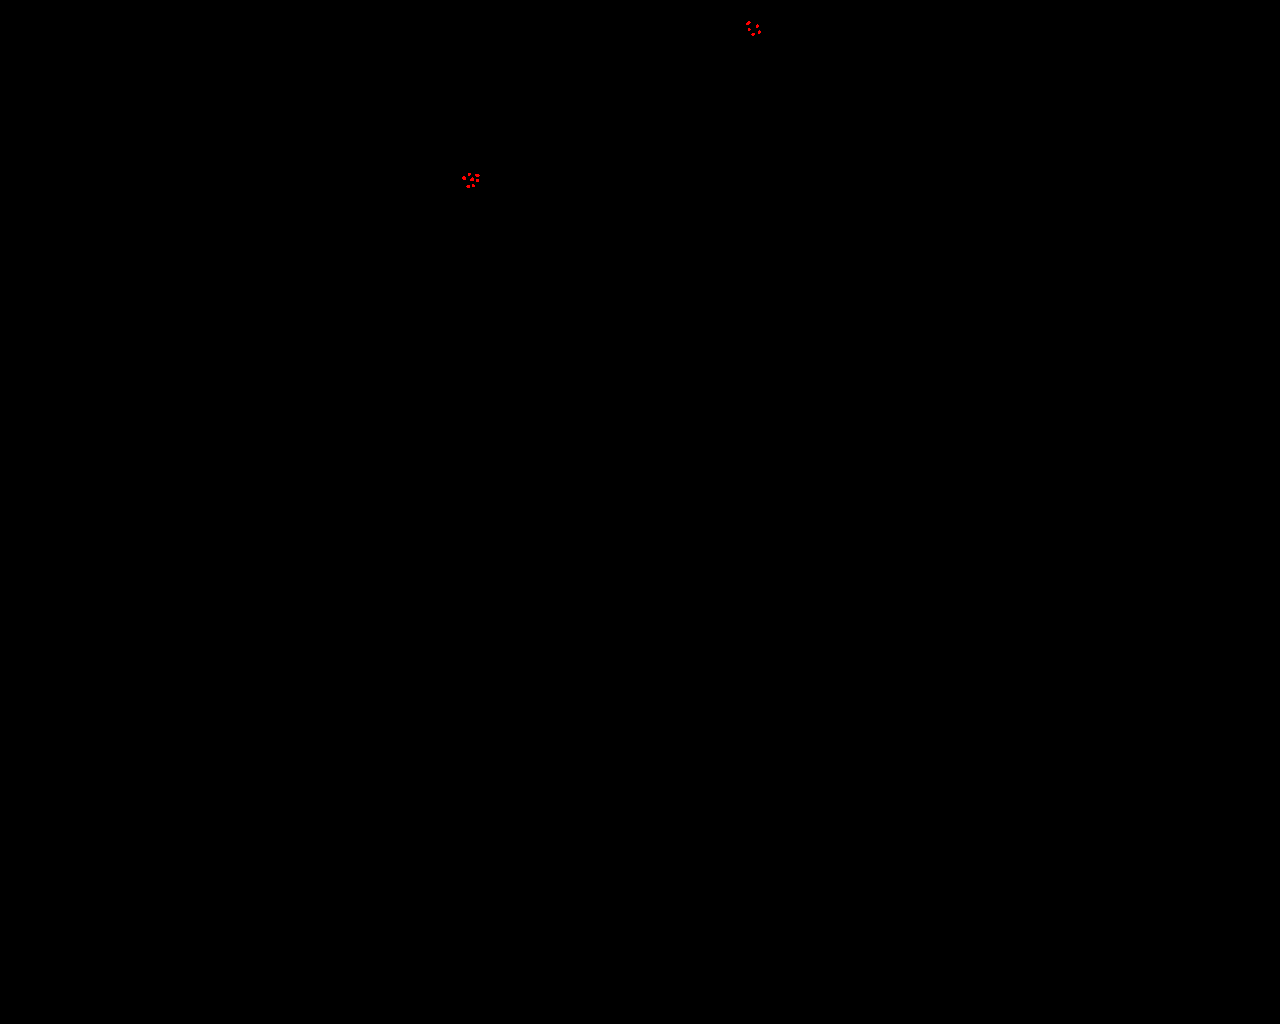Target: (746, 21, 751, 25), (462, 176, 466, 180), (470, 177, 474, 181), (758, 30, 761, 34), (466, 185, 470, 188), (748, 28, 751, 31), (472, 184, 475, 187), (757, 24, 759, 28), (751, 33, 755, 36), (475, 174, 480, 177), (468, 173, 471, 176), (476, 179, 479, 182)
